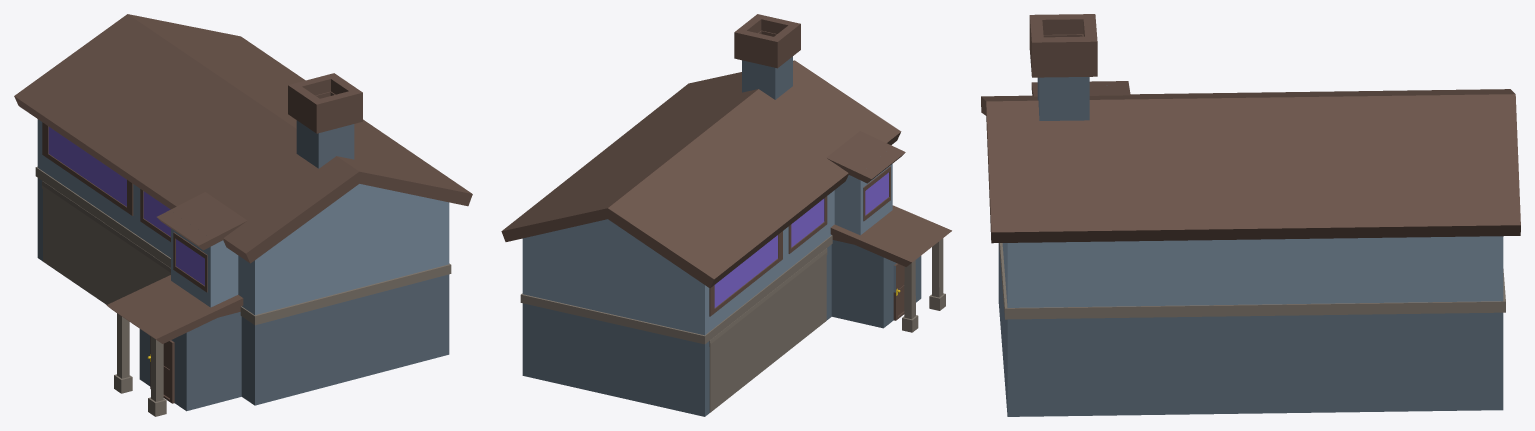
The model's file is CALLE4_CASA2_024.fbx.
The picture shows the model from 3 angles, left to right: view 1: azimuth 30°, elevation 25°; view 2: azimuth 150°, elevation 25°; view 3: azimuth 270°, elevation 25°; orthographic projection. The views are drawn at different scales.
Visible parts, largest first — view 1: CASA2.024; view 2: CASA2.024; view 3: CASA2.024.
Part boxes in pixels (x1=…): CASA2.024: x1=14, y1=14, x2=472, y2=416; CASA2.024: x1=501, y1=14, x2=951, y2=416; CASA2.024: x1=981, y1=14, x2=1520, y2=416.
Bounding box in the file's own units: 800 × 680 × 1010.
